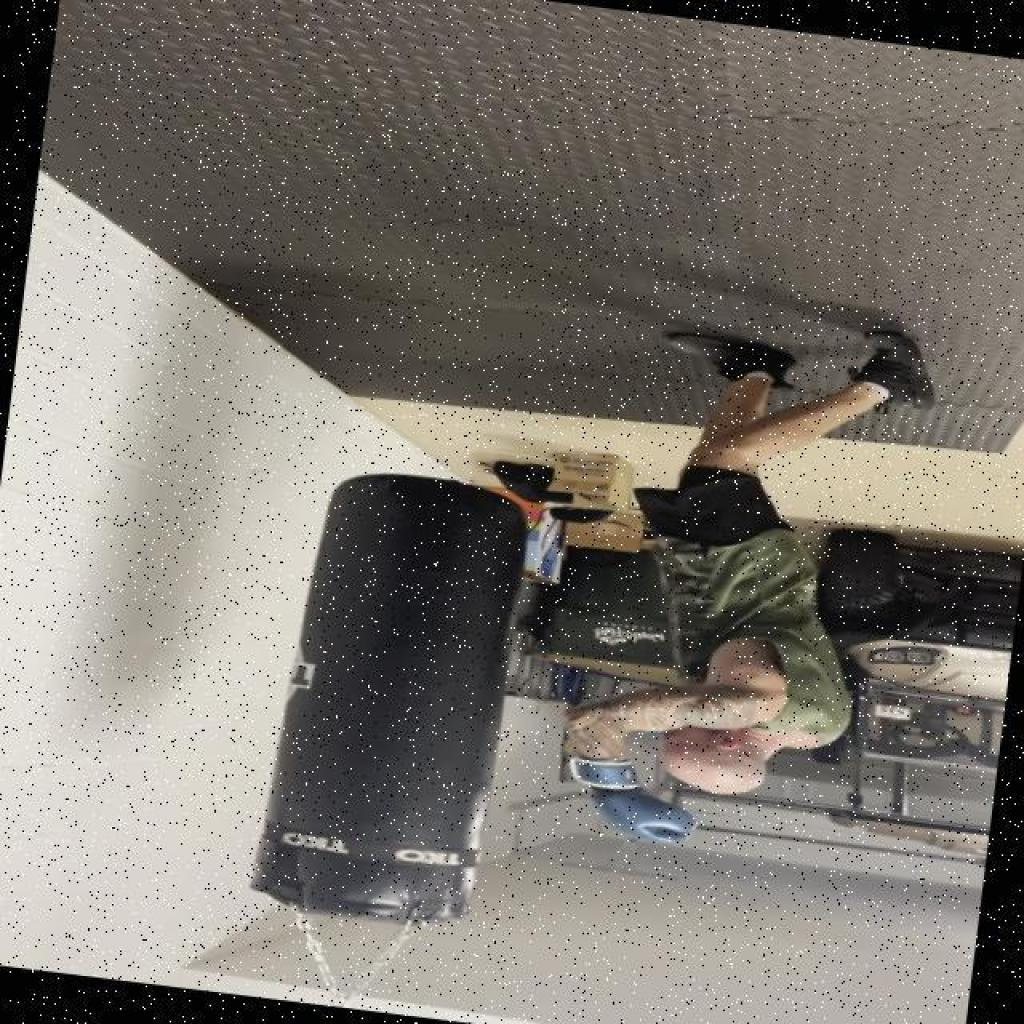bag: (262, 456, 533, 941)
uppercut: (524, 624, 846, 870)
